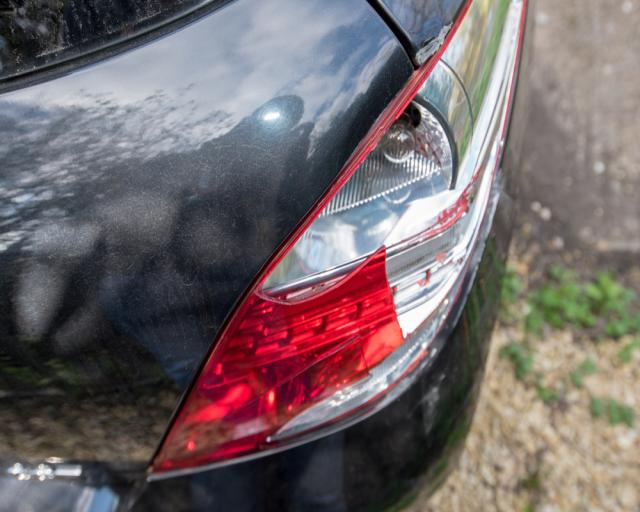lamp broken: (145, 0, 527, 476)
